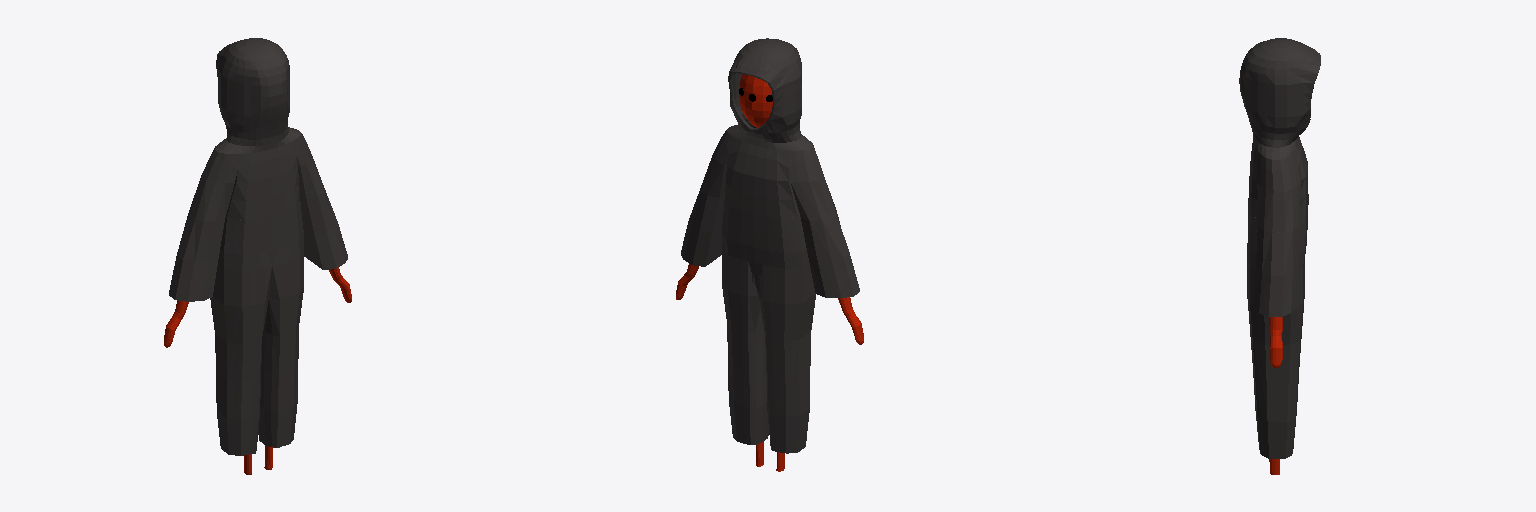
File: Etalo_2.obj
3 views of the same model, side by side, from view 1: azimuth 30°, elevation 25°; view 2: azimuth 150°, elevation 25°; view 3: azimuth 270°, elevation 25° (orthographic).
Visible parts, largest first — view 1: highCloth_Cone, Cube_Cube.001; view 2: highCloth_Cone, Cube_Cube.001; view 3: highCloth_Cone, Cube_Cube.001.
Part boxes in pixels (bbox=[...]): highCloth_Cone: bbox=[169, 38, 347, 455]; Cube_Cube.001: bbox=[164, 267, 351, 474]; highCloth_Cone: bbox=[681, 38, 859, 453]; Cube_Cube.001: bbox=[676, 74, 863, 471]; highCloth_Cone: bbox=[1239, 38, 1320, 458]; Cube_Cube.001: bbox=[1269, 88, 1313, 474].
Size of the model in its own units: 0.698 by 1.52 by 0.2642.